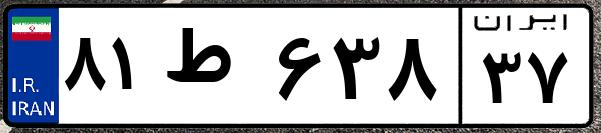1: (110, 28, 158, 98)
3: (330, 28, 385, 110), (475, 38, 525, 113)
6: (270, 28, 330, 110)
7: (525, 38, 570, 115)
8: (385, 28, 445, 110), (57, 26, 110, 100)
ط: (158, 20, 270, 120)
